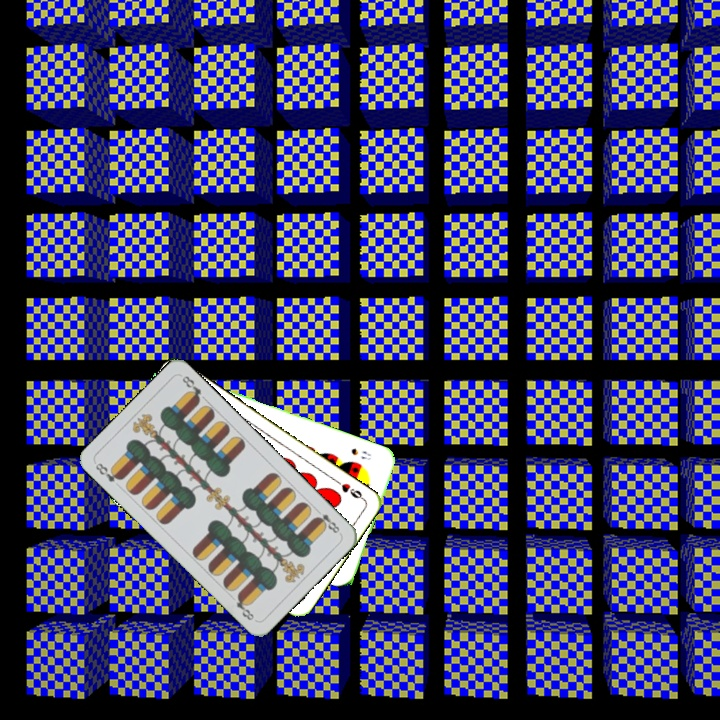E8: (311, 504, 342, 536), (91, 459, 125, 485)
H9: (331, 475, 367, 502)
S8: (347, 444, 374, 463)
